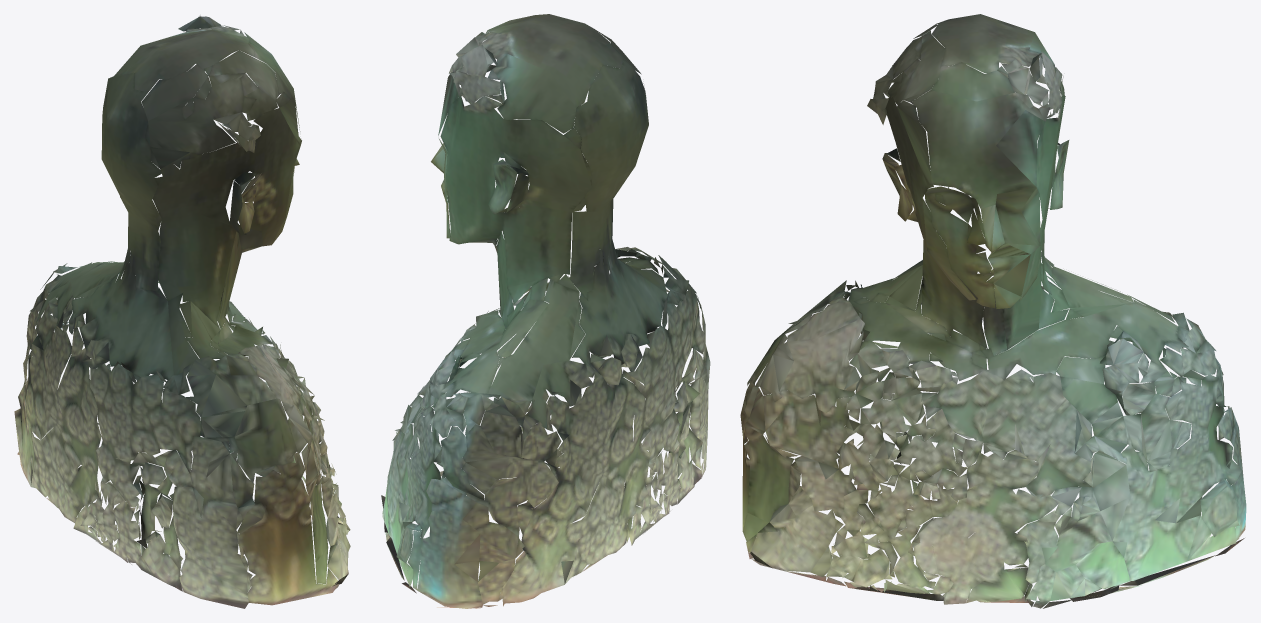
File: Statue1_LOD3.glb
The picture shows the model from 3 angles, left to right: view 1: azimuth 30°, elevation 25°; view 2: azimuth 150°, elevation 25°; view 3: azimuth 270°, elevation 25°; orthographic projection. The views are drawn at different scales.
Visible parts, largest first — view 1: Statue 1.001_LOD3; view 2: Statue 1.001_LOD3; view 3: Statue 1.001_LOD3.
Boxes of the visible parts, box(x1,y1,x2,y2) form: Statue 1.001_LOD3: box(14, 15, 350, 608); Statue 1.001_LOD3: box(381, 14, 710, 608); Statue 1.001_LOD3: box(740, 14, 1246, 608).
Bounding box in the file's own units: 0.2738 × 0.5227 × 0.4604.
1 material, 1 textured.
